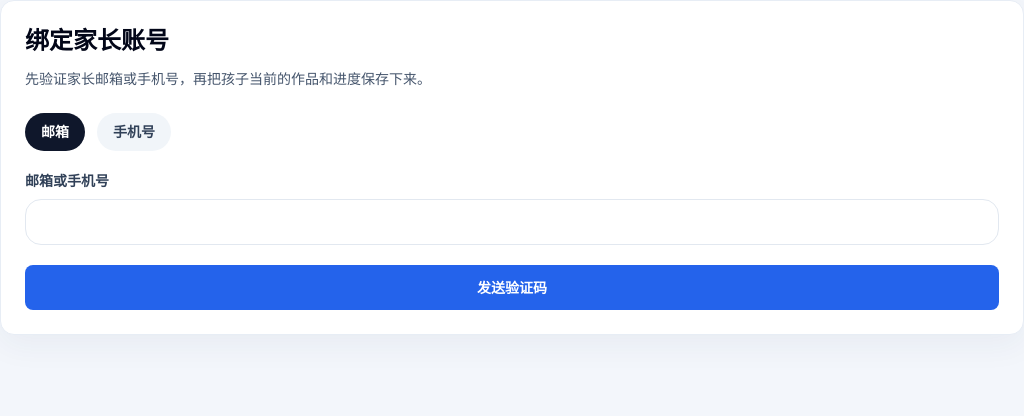
Scenario: BindAccountForm › asks for an address before requesting a code
The image size is (1024, 416).
Click the button "发送验证码" at point(512, 288), box [25,265,999,310]
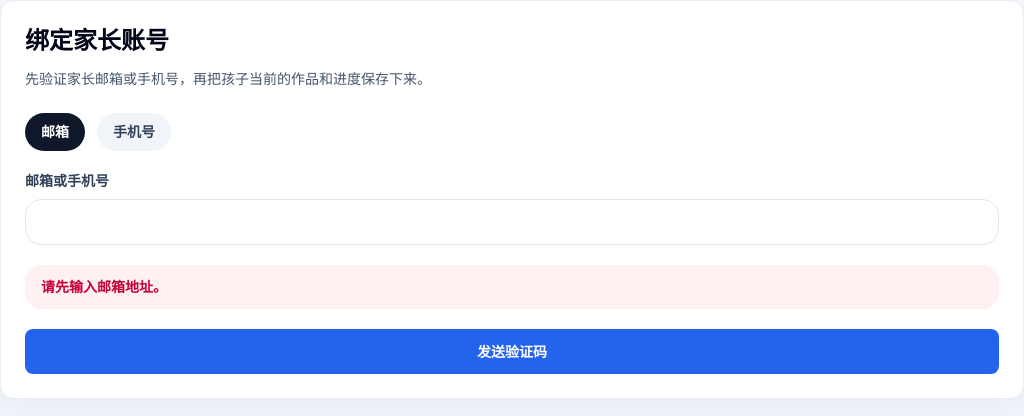
Now the text with test id "bind-account-error" shows "请先输入邮箱地址", box [41,278,167,295]
